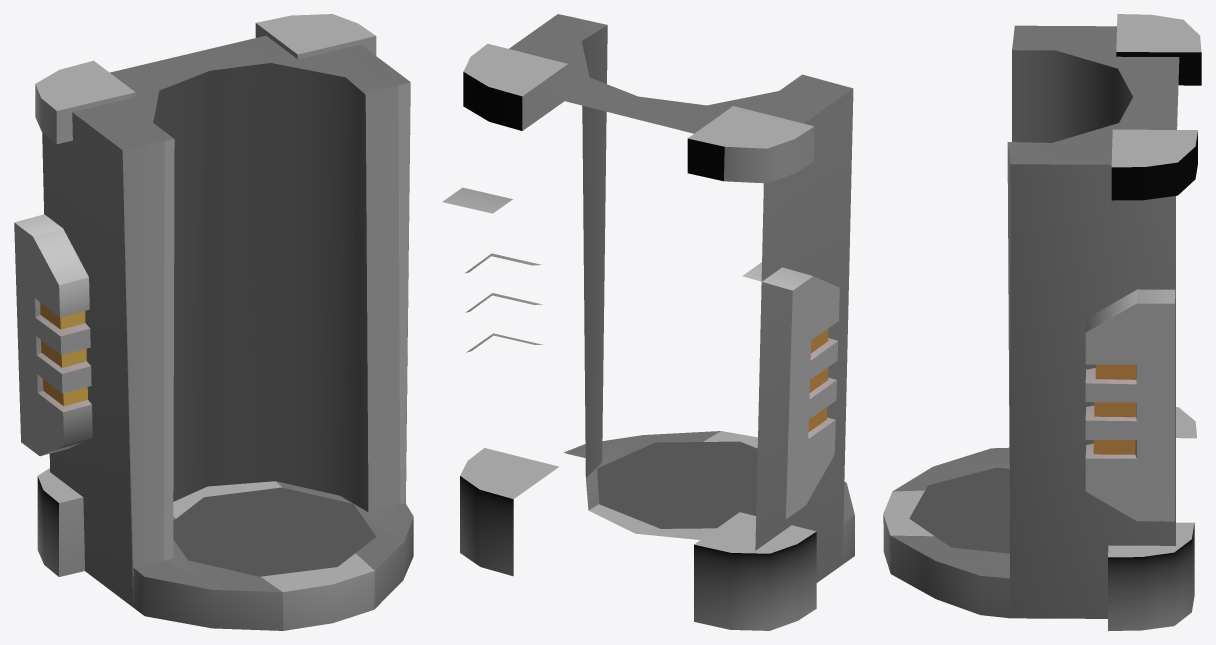
The model's file is hotSauceHolder_0.glb.
3 renders of one model, left to right at view 1: azimuth 30°, elevation 25°; view 2: azimuth 150°, elevation 25°; view 3: azimuth 270°, elevation 25°, orthographic. The views are drawn at different scales.
Visible parts, largest first — view 1: hotSauceHolder; view 2: hotSauceHolder; view 3: hotSauceHolder.
Boxes of the visible parts, left/top/right/bottom form: hotSauceHolder: left=14, top=14, right=413, bottom=630; hotSauceHolder: left=442, top=14, right=854, bottom=630; hotSauceHolder: left=883, top=14, right=1201, bottom=630.
Bounding box in the file's own units: 1.41 × 1.85 × 1.16.
